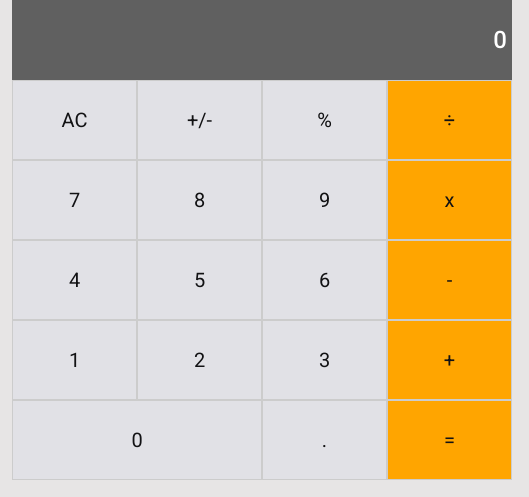
Test: Calculator component › should clear the whole operation when clicking the 'AC' button
Click the button "1" at (74, 360), box [12, 320, 137, 400]
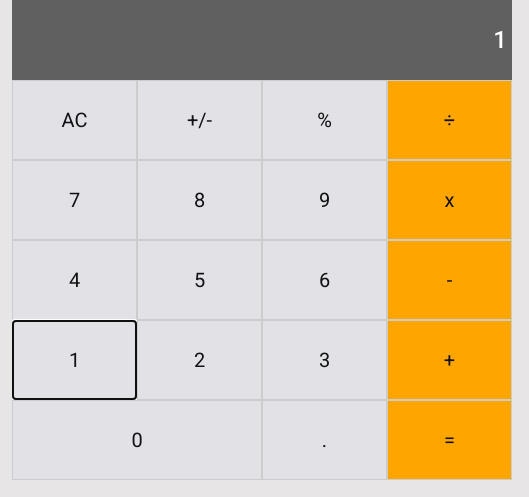
Click the button "2" at (200, 360), box [137, 320, 262, 400]
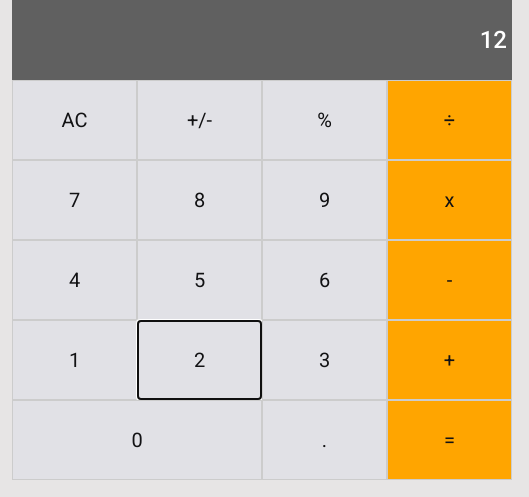
Click the button "3" at (324, 360), box [262, 320, 387, 400]
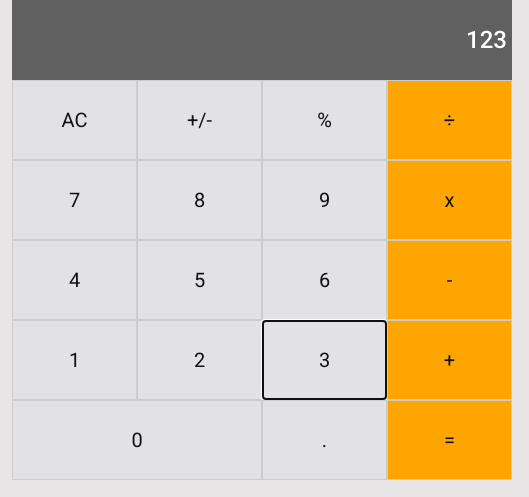
Click the button "AC" at (74, 120), box [12, 80, 137, 160]
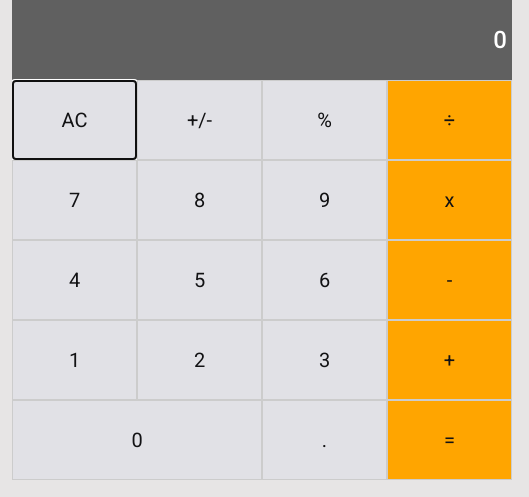
Result: the text with test id "calculator-display" reads "0" at [493, 26, 507, 54]
